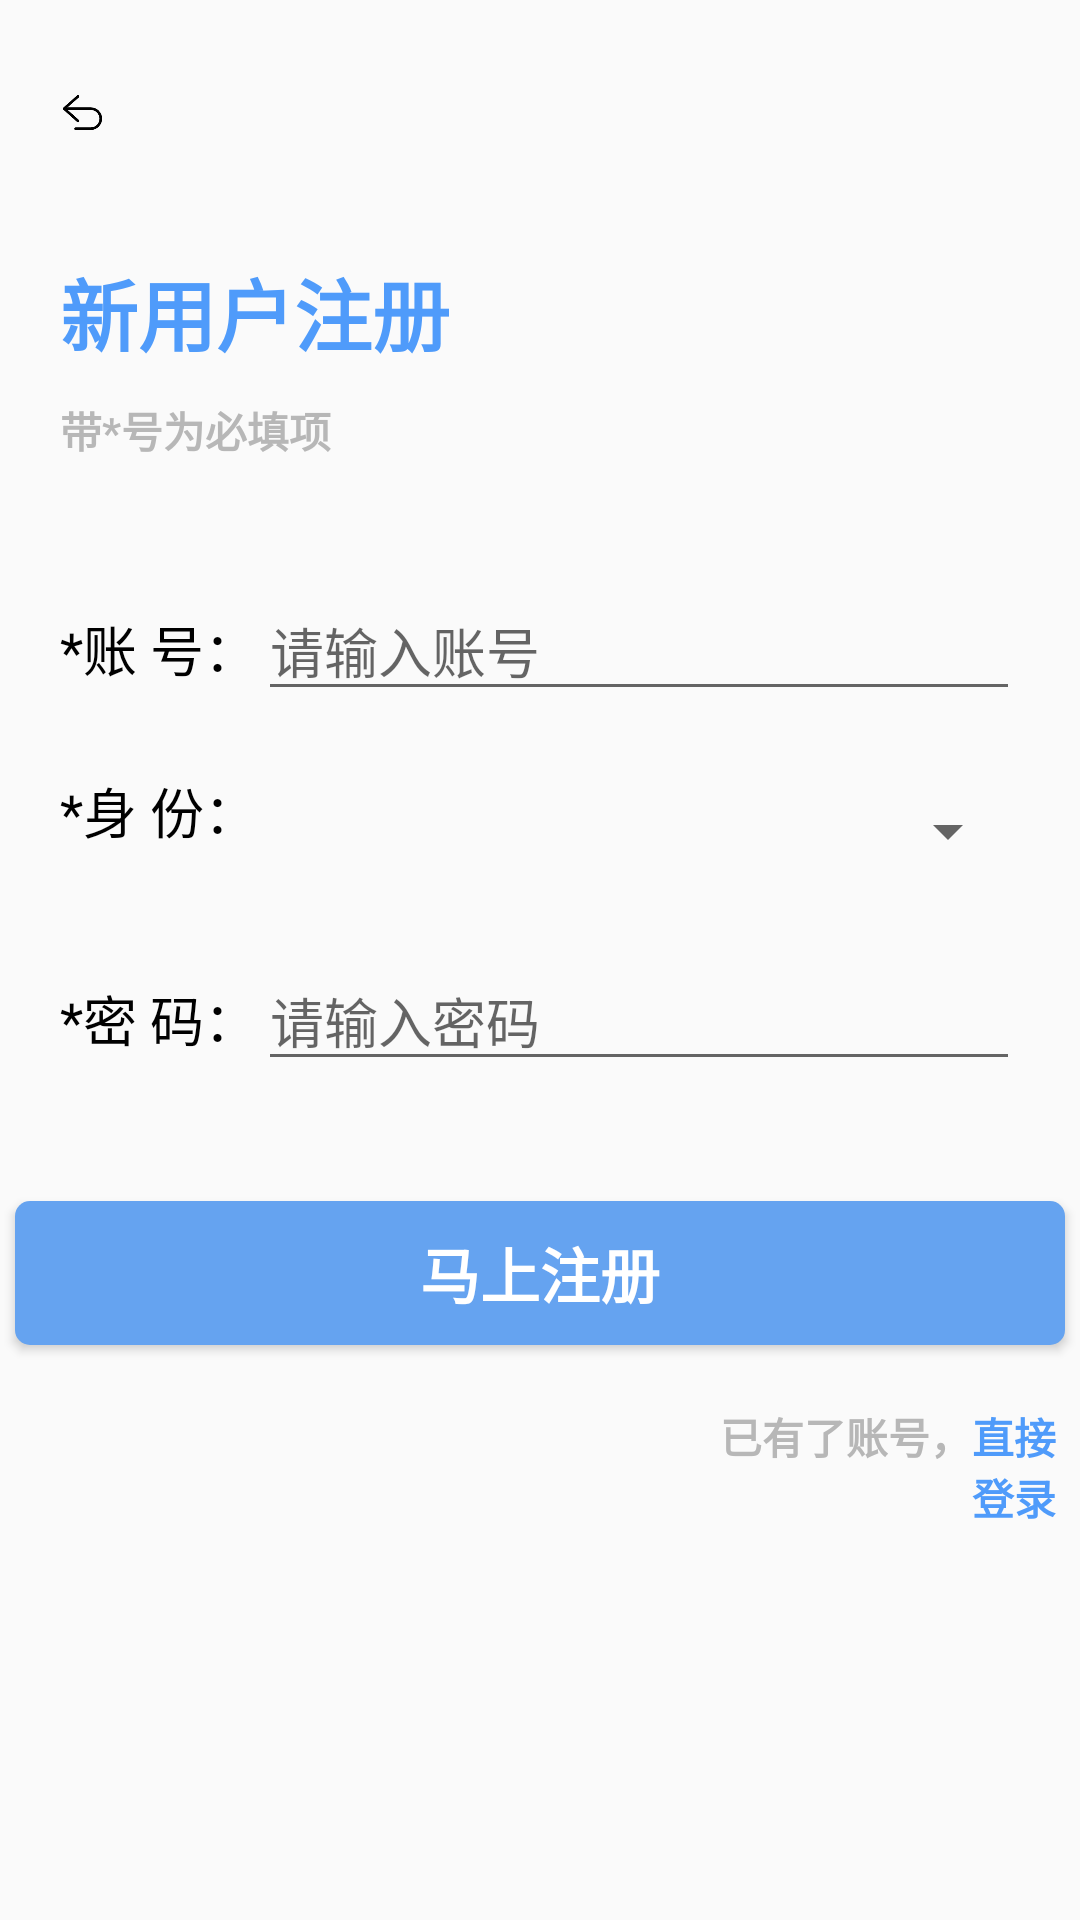

Screen size 1080×1920. Icon name, then its box in pixels as (x1, y1, x2, y2):
back: (63, 95, 102, 130)
